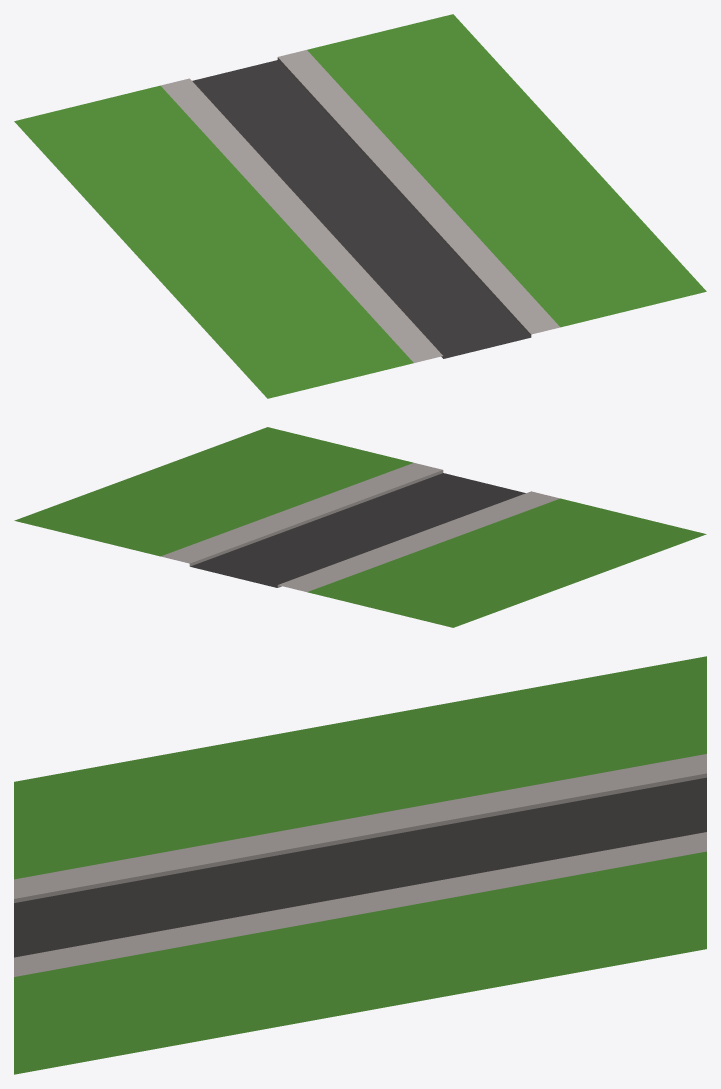
The model's file is tiles-nb_tile-road-hill-nb.fbx.
The picture shows the model from 3 angles, top to bottom: view 1: azimuth 30°, elevation 25°; view 2: azimuth 150°, elevation 25°; view 3: azimuth 270°, elevation 25°; orthographic projection. The views are drawn at different scales.
Visible parts, largest first — view 1: tiles_nb_tile_road_hill_nb; view 2: tiles_nb_tile_road_hill_nb; view 3: tiles_nb_tile_road_hill_nb.
Boxes of the visible parts, bbox=[...] form: tiles_nb_tile_road_hill_nb: bbox=[14, 14, 706, 398]; tiles_nb_tile_road_hill_nb: bbox=[14, 427, 706, 627]; tiles_nb_tile_road_hill_nb: bbox=[14, 656, 706, 1074].
Bounding box in the file's own units: 200 × 41.33 × 200.
